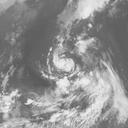cyclone: (53, 52, 76, 75)
